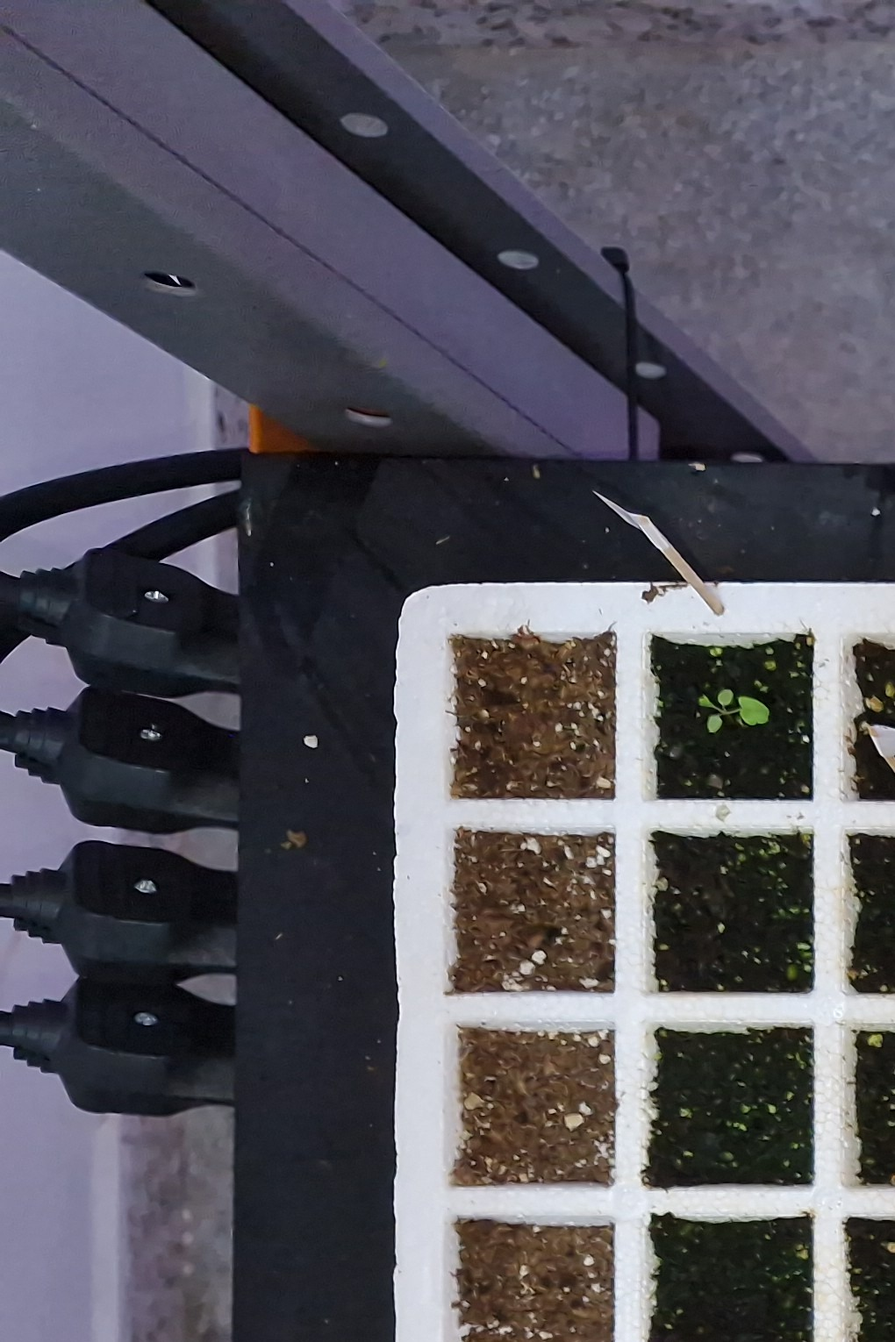Folha: (740, 697, 769, 725), (707, 715, 723, 732), (718, 690, 733, 706), (700, 695, 713, 707)
Germinacao: (699, 690, 769, 733)
